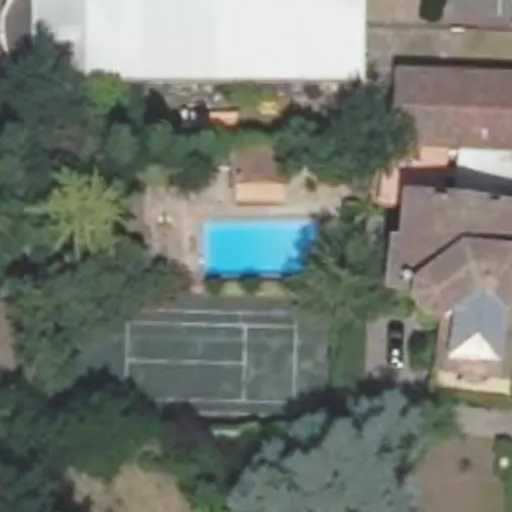pool: (202, 216, 309, 267)
